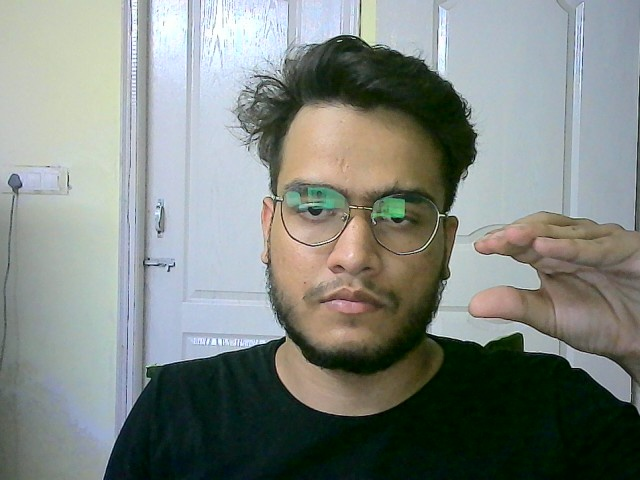No: (467, 209, 640, 368)
